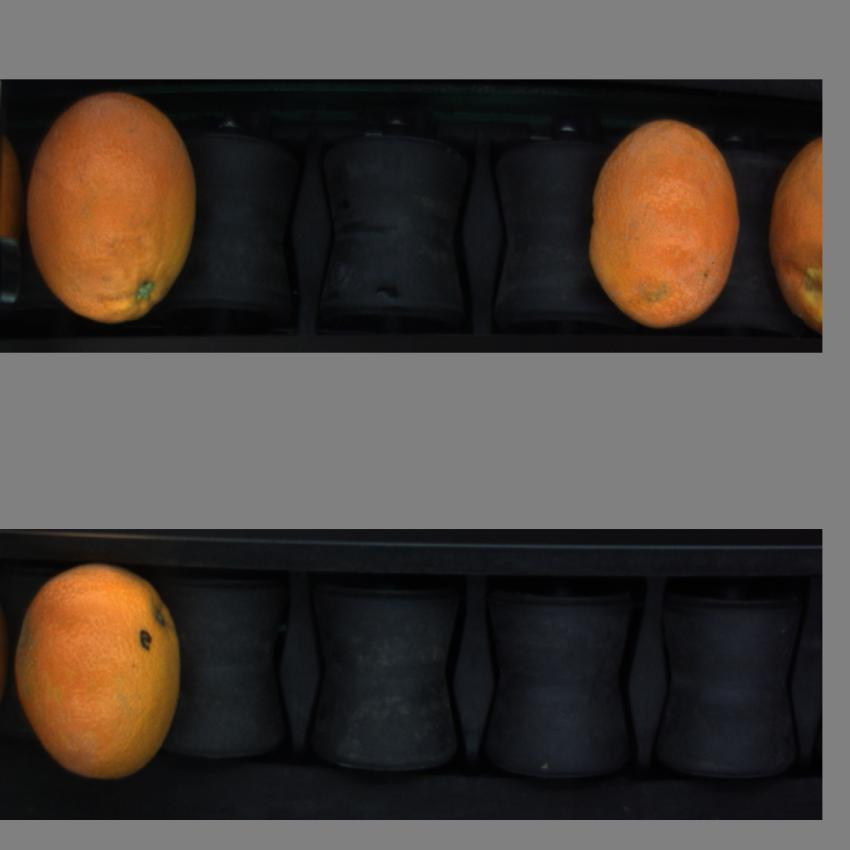Buen estado: (8, 540, 186, 796), (23, 82, 204, 330), (581, 105, 744, 330)
Mal estado: (767, 122, 824, 328)
